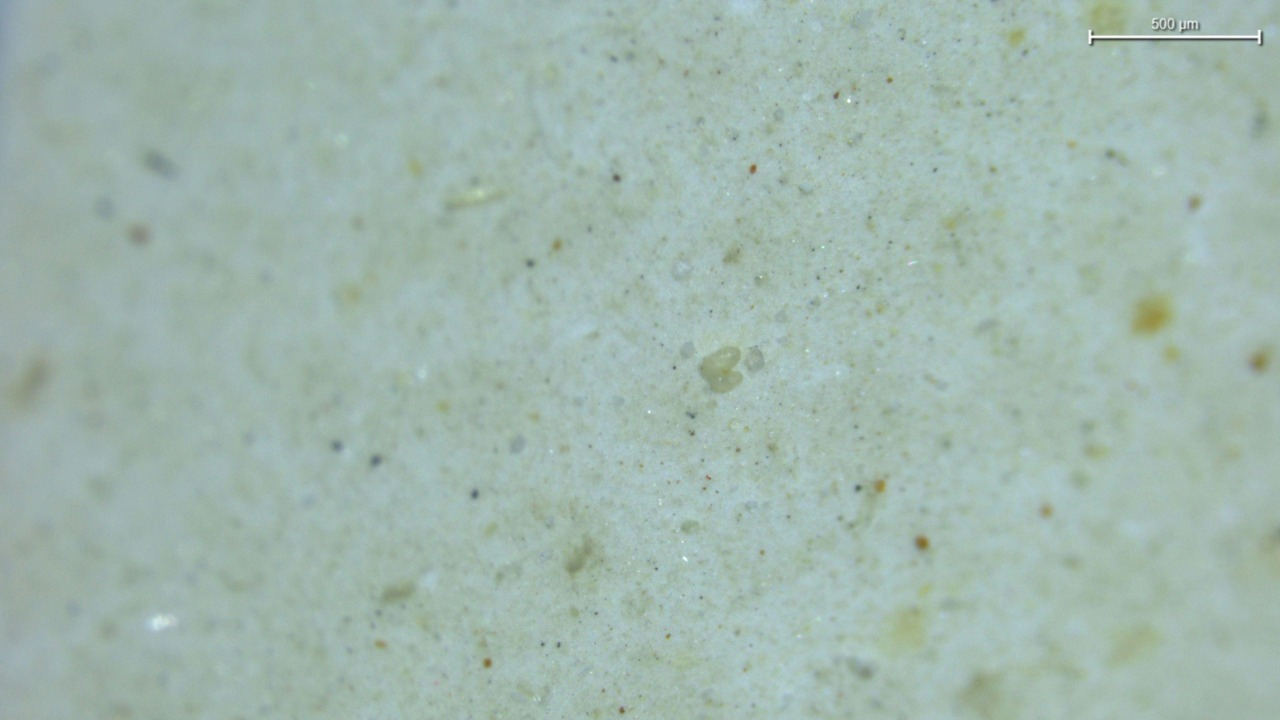microplastic_fragment: (700, 346, 743, 392)
